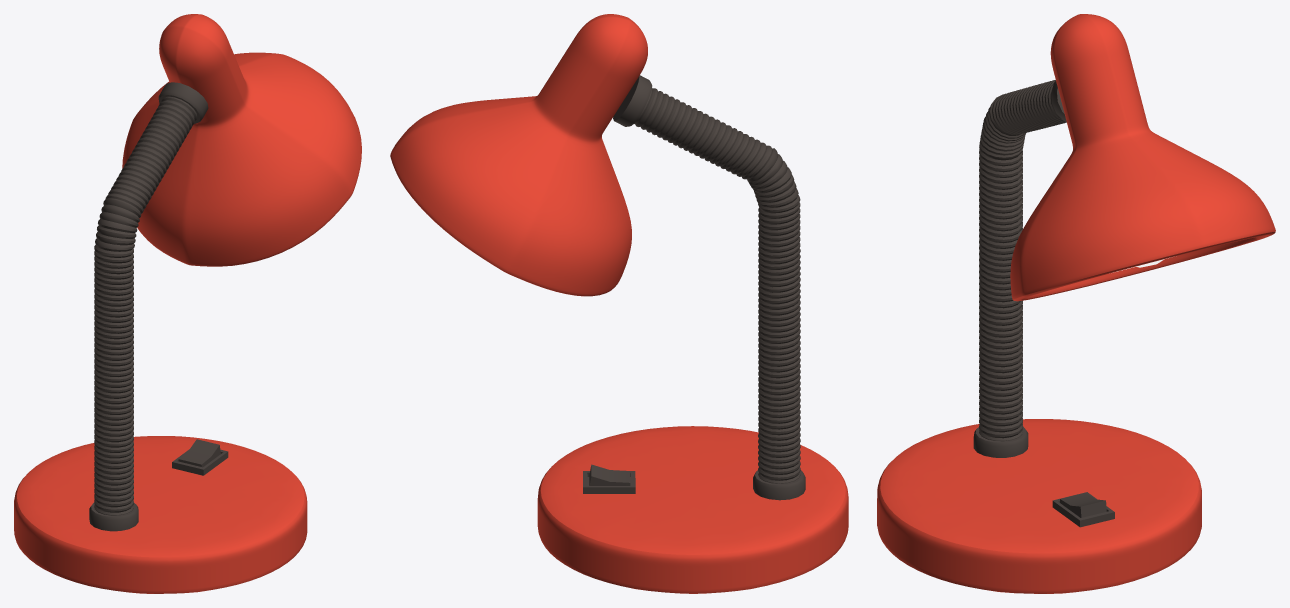
File: light.gltf
3 views of the same model, side by side, from view 1: azimuth 30°, elevation 25°; view 2: azimuth 150°, elevation 25°; view 3: azimuth 270°, elevation 25° (orthographic). The views are drawn at different scales.
Parts seen in each view (by area): view 1: Vert; view 2: Vert; view 3: Vert.
Boxes of the visible parts, x1,y1,x2,y2 form: Vert: (14, 14, 361, 593); Vert: (390, 14, 848, 593); Vert: (877, 14, 1275, 593).
Bounding box in the file's own units: 1.78 × 2.38 × 1.58.
